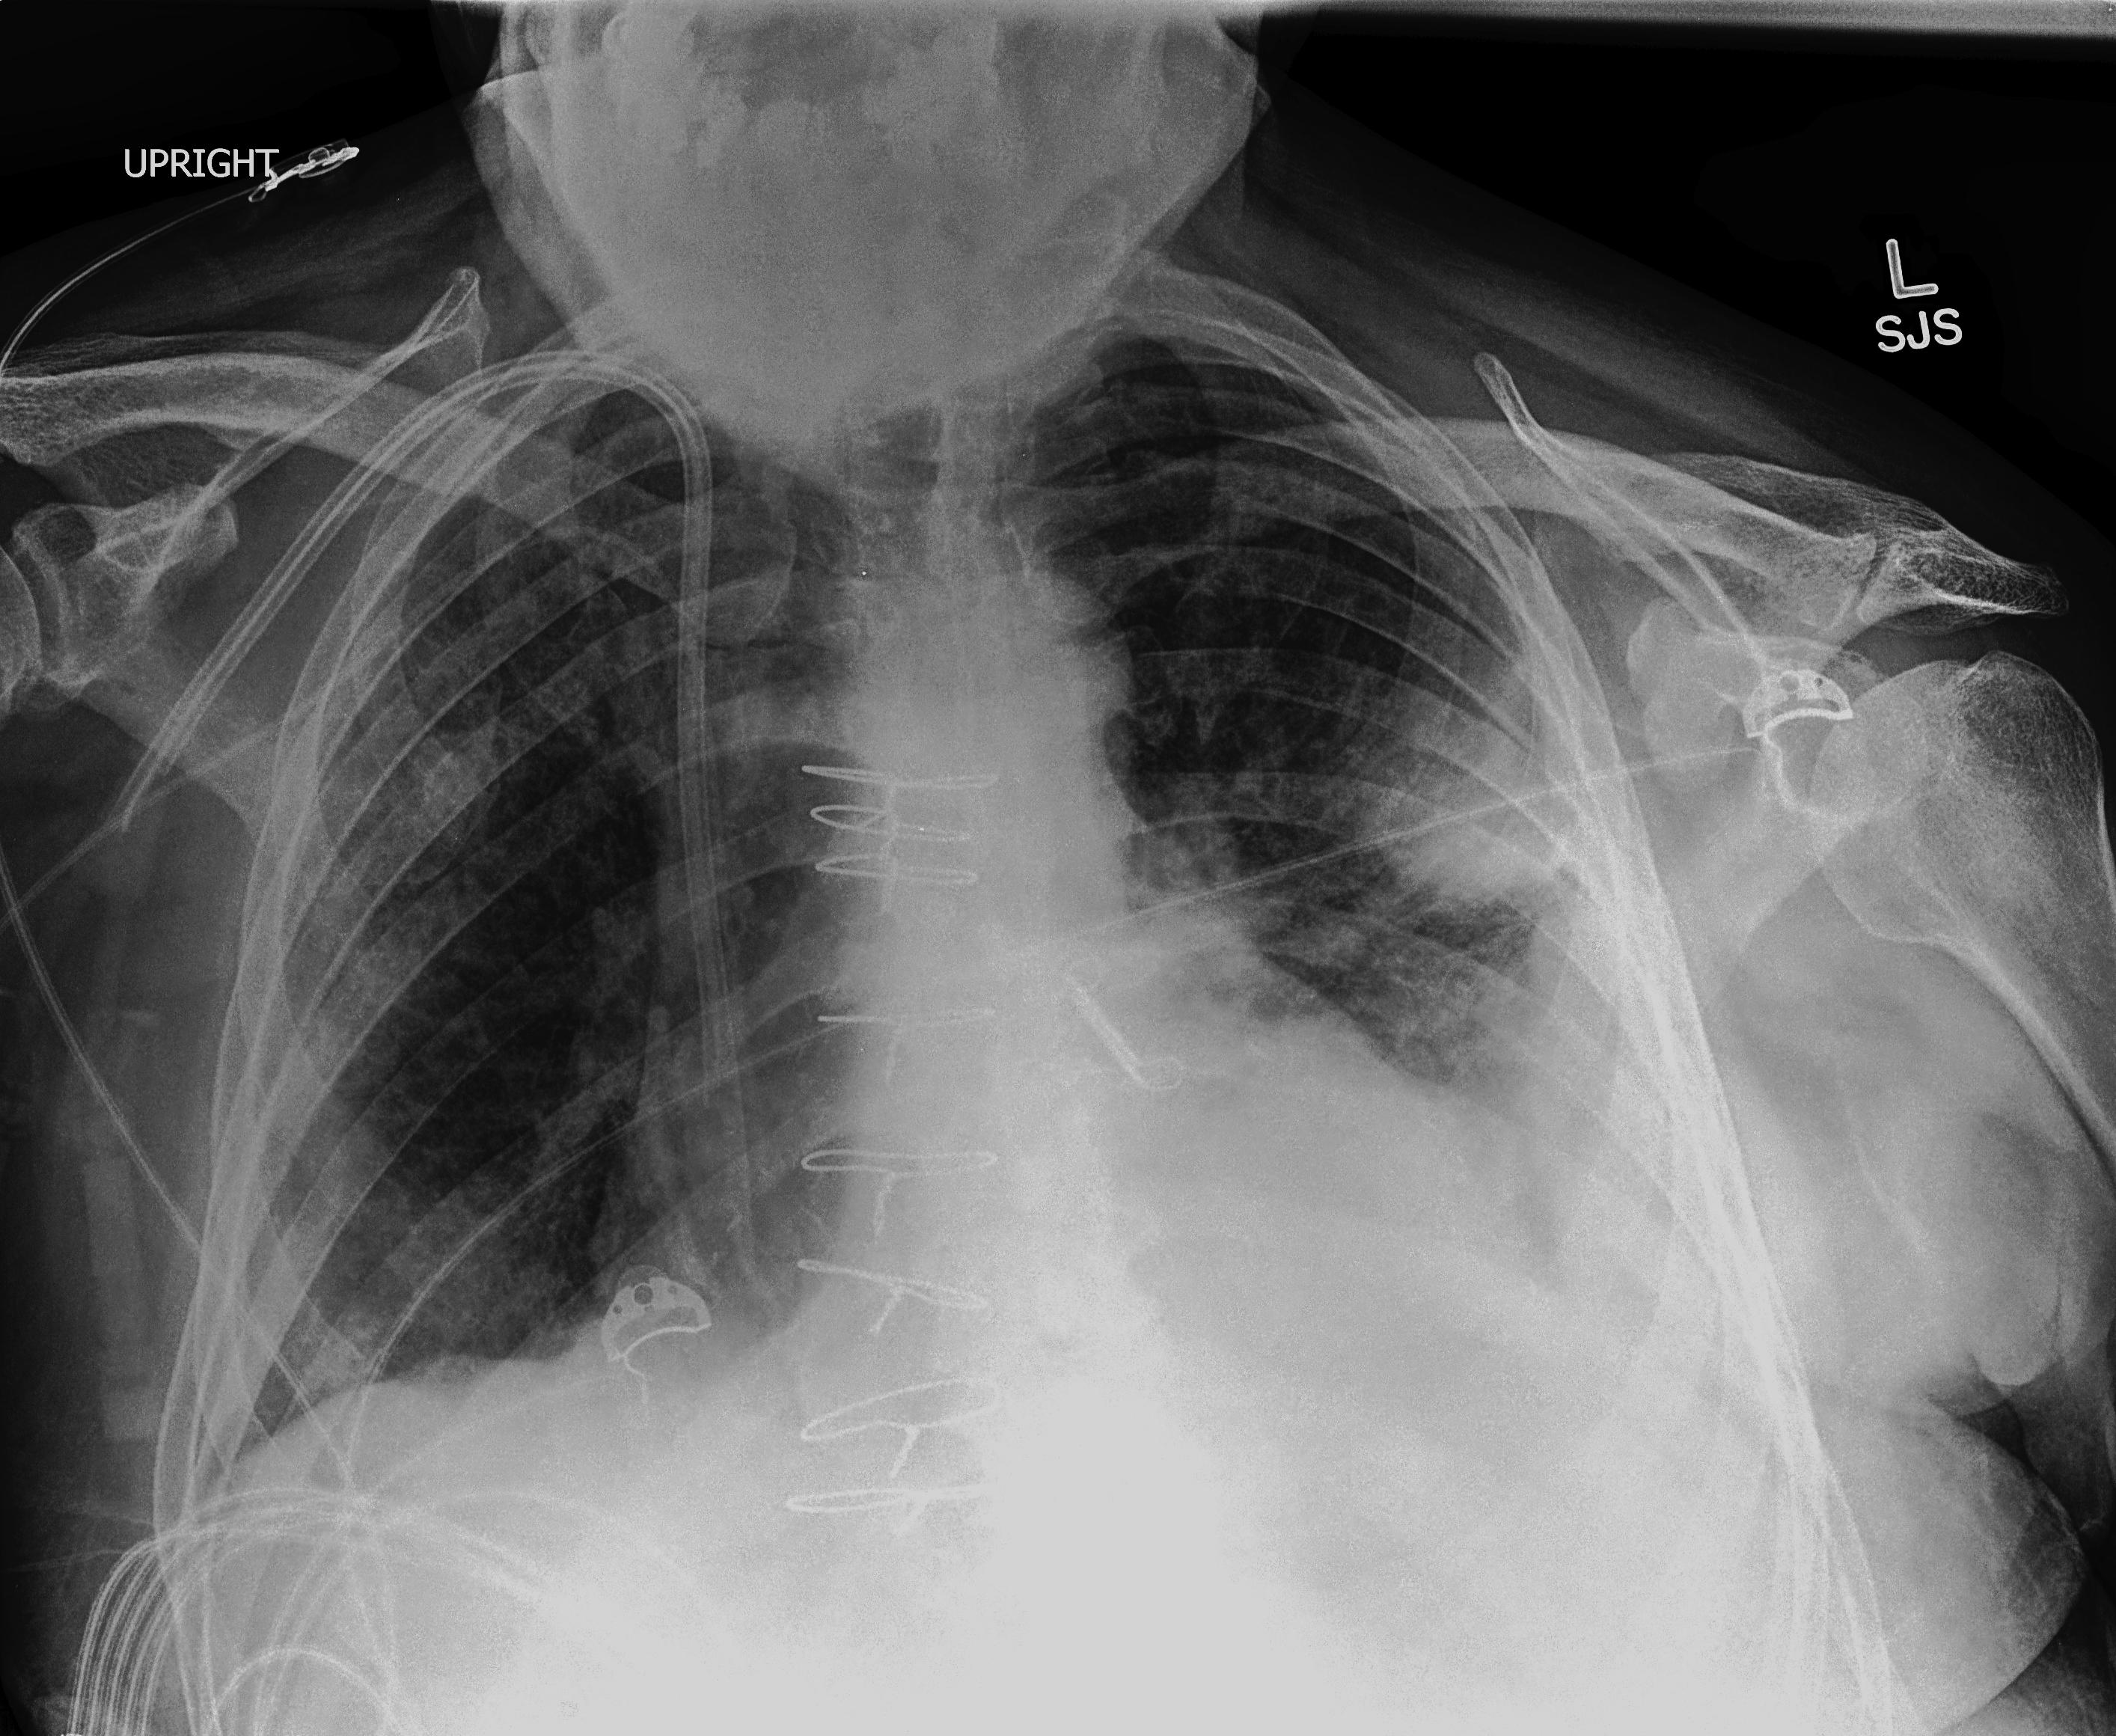Pleural Effusion: (1418, 1035, 1779, 1451), (1380, 689, 1652, 922)
